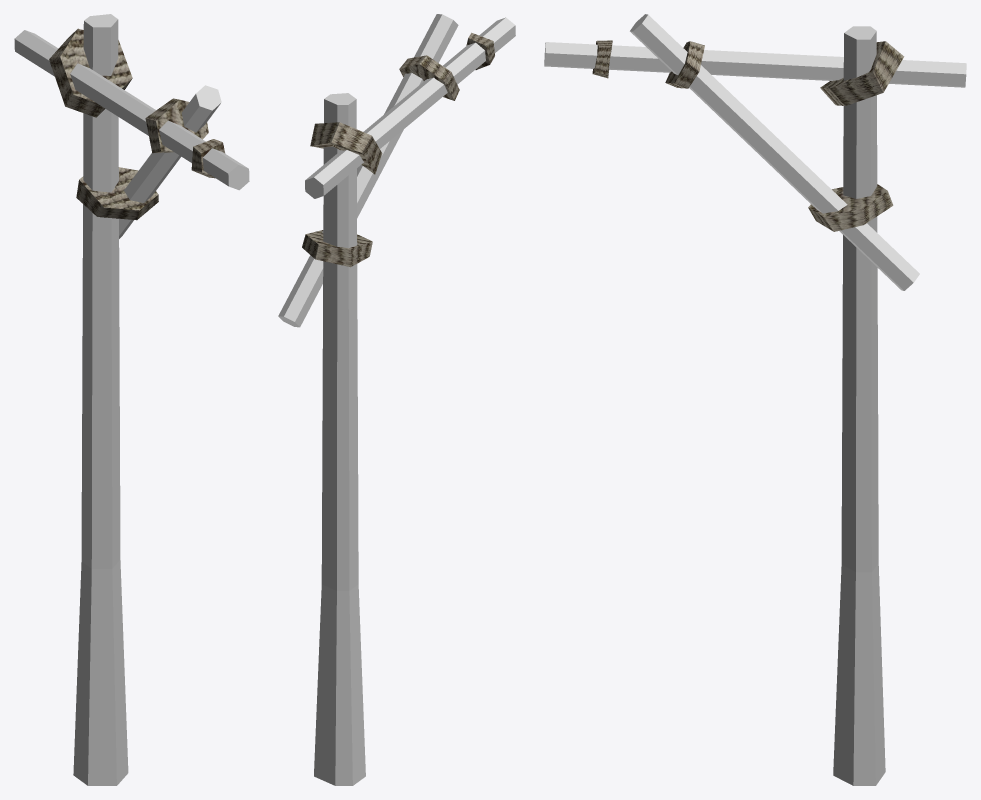
File: LanternPole.fbx
3 views of the same model, side by side, from view 1: azimuth 30°, elevation 25°; view 2: azimuth 150°, elevation 25°; view 3: azimuth 270°, elevation 25° (orthographic). The views are drawn at different scales.
Parts seen in each view (by area): view 1: Cylinder; view 2: Cylinder; view 3: Cylinder.
Part boxes in pixels (x1,y1,x2,y2): Cylinder: (14, 14, 249, 785); Cylinder: (278, 14, 515, 785); Cylinder: (544, 14, 966, 785).
Bounding box in the file's own units: 80.45 × 727 × 367.
Materials: 2 (1 with a texture image).
